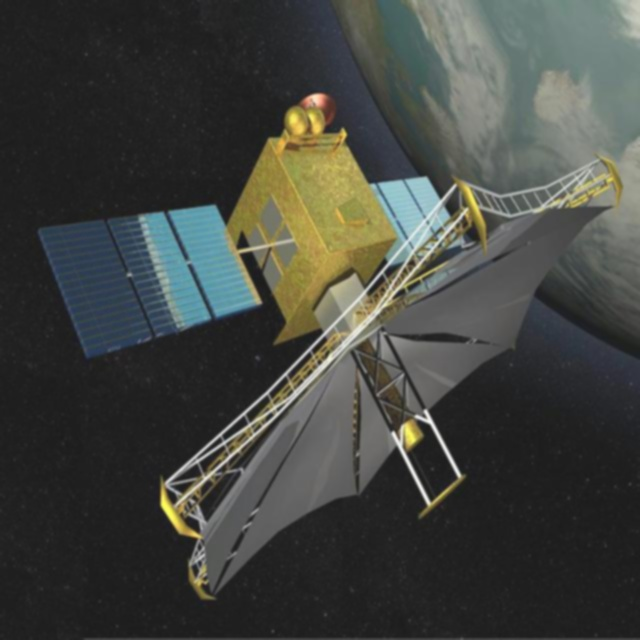medium_debris: (34, 92, 618, 605)
